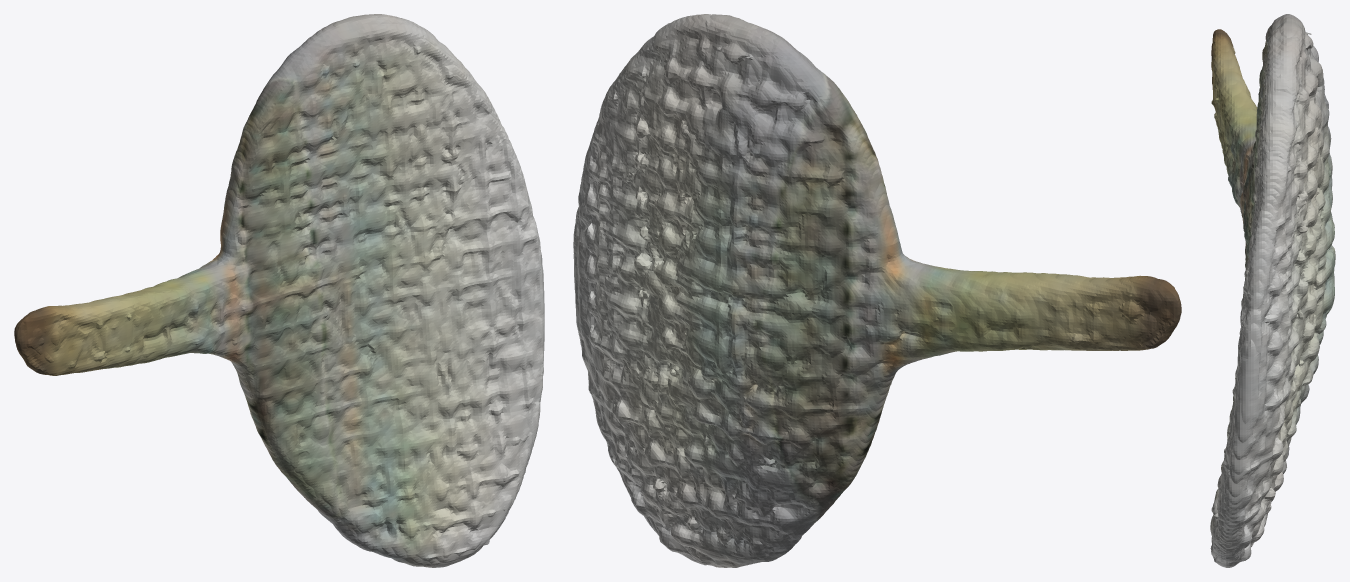
3 views of the same model, side by side, from view 1: azimuth 30°, elevation 25°; view 2: azimuth 150°, elevation 25°; view 3: azimuth 270°, elevation 25° (orthographic). The views are drawn at different scales.
Parts seen in each view (by area): view 1: geometry_0; view 2: geometry_0; view 3: geometry_0.
Part boxes in pixels (<box>): geometry_0: <box>14,14,544,567</box>; geometry_0: <box>573,14,1181,567</box>; geometry_0: <box>1210,14,1335,567</box>.
Size of the model in its own units: 0.9871 by 0.9365 by 0.2084.
